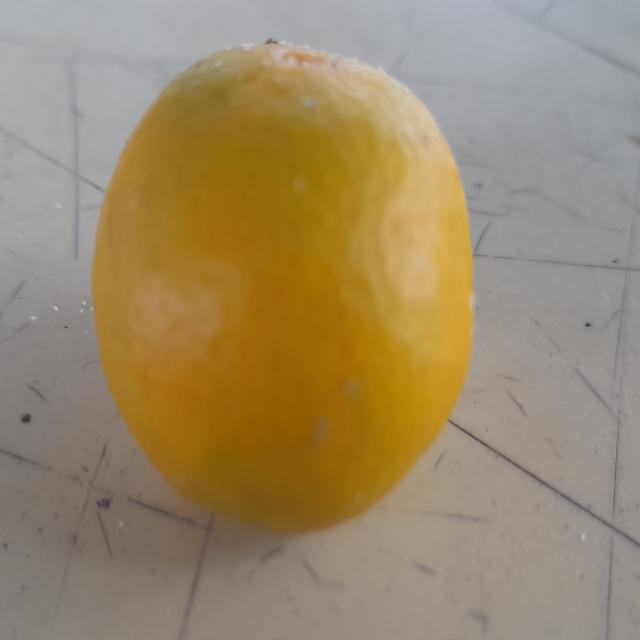greening: (90, 45, 483, 540)
